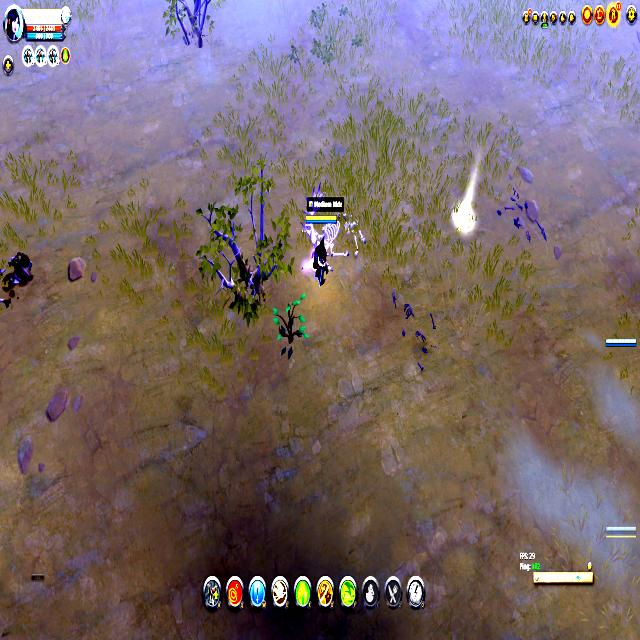red: (304, 213, 335, 288), (601, 518, 639, 545), (603, 330, 638, 353)
stone: (452, 199, 472, 238)
